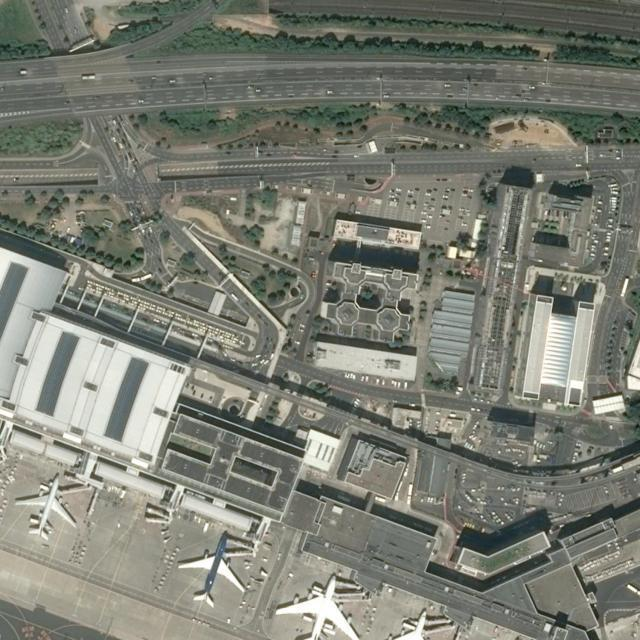Aircraft: (277, 576, 363, 640), (179, 536, 250, 608), (18, 475, 78, 540), (376, 612, 444, 640)
